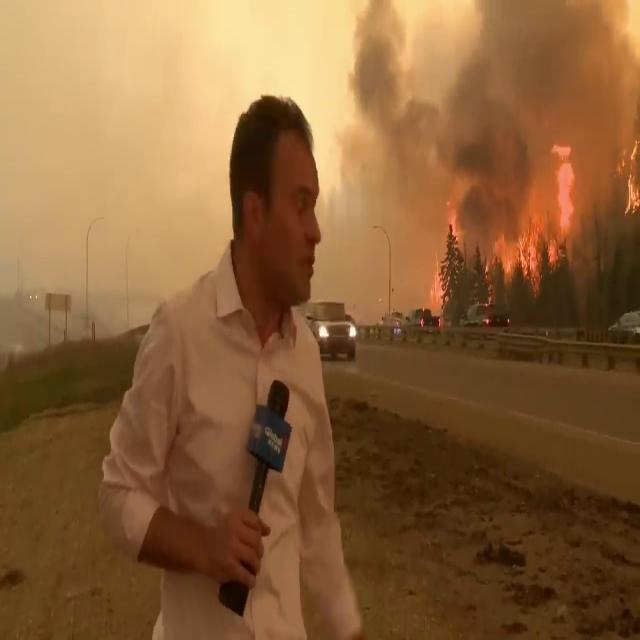Fire: (504, 139, 578, 290), (618, 138, 640, 220)
Smoke: (349, 3, 640, 266)
